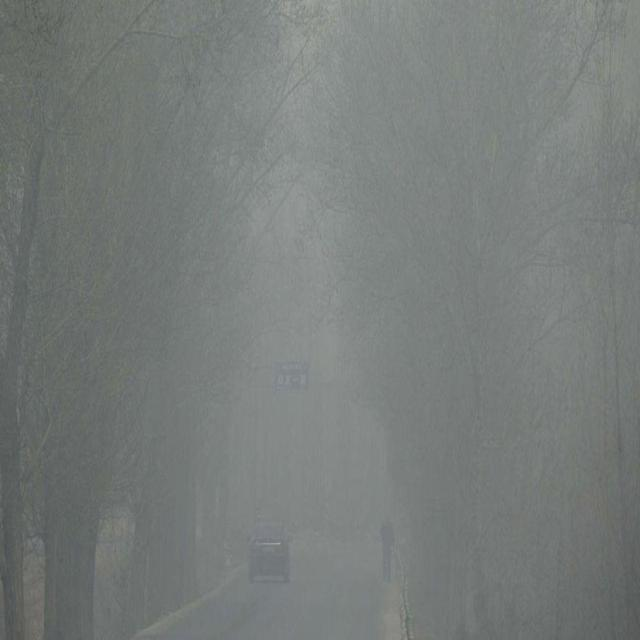Car: (248, 520, 292, 584)
